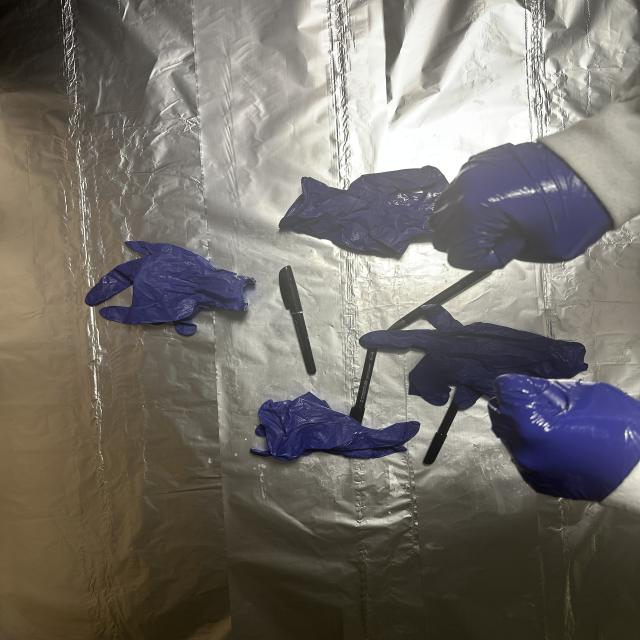gloves_contaminated: (430, 143, 611, 270), (488, 374, 640, 501)
